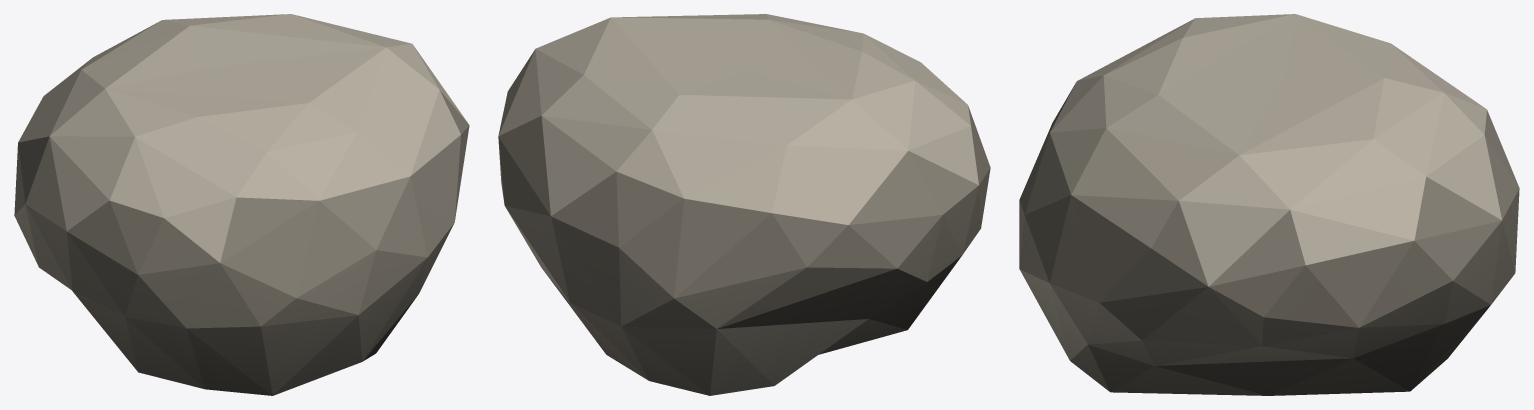
The model's file is rock_medium_a.glb.
3 views of the same model, side by side, from view 1: azimuth 30°, elevation 25°; view 2: azimuth 150°, elevation 25°; view 3: azimuth 270°, elevation 25° (orthographic). The views are drawn at different scales.
Parts seen in each view (by area): view 1: Body; view 2: Body; view 3: Body.
Part boxes in pixels (<box>): Body: <box>14,14,469,395</box>; Body: <box>498,14,990,395</box>; Body: <box>1019,14,1519,395</box>.
Size of the model in its own units: 0.9674 by 0.5728 by 0.9203.
Materials: 1 (1 with a texture image).
